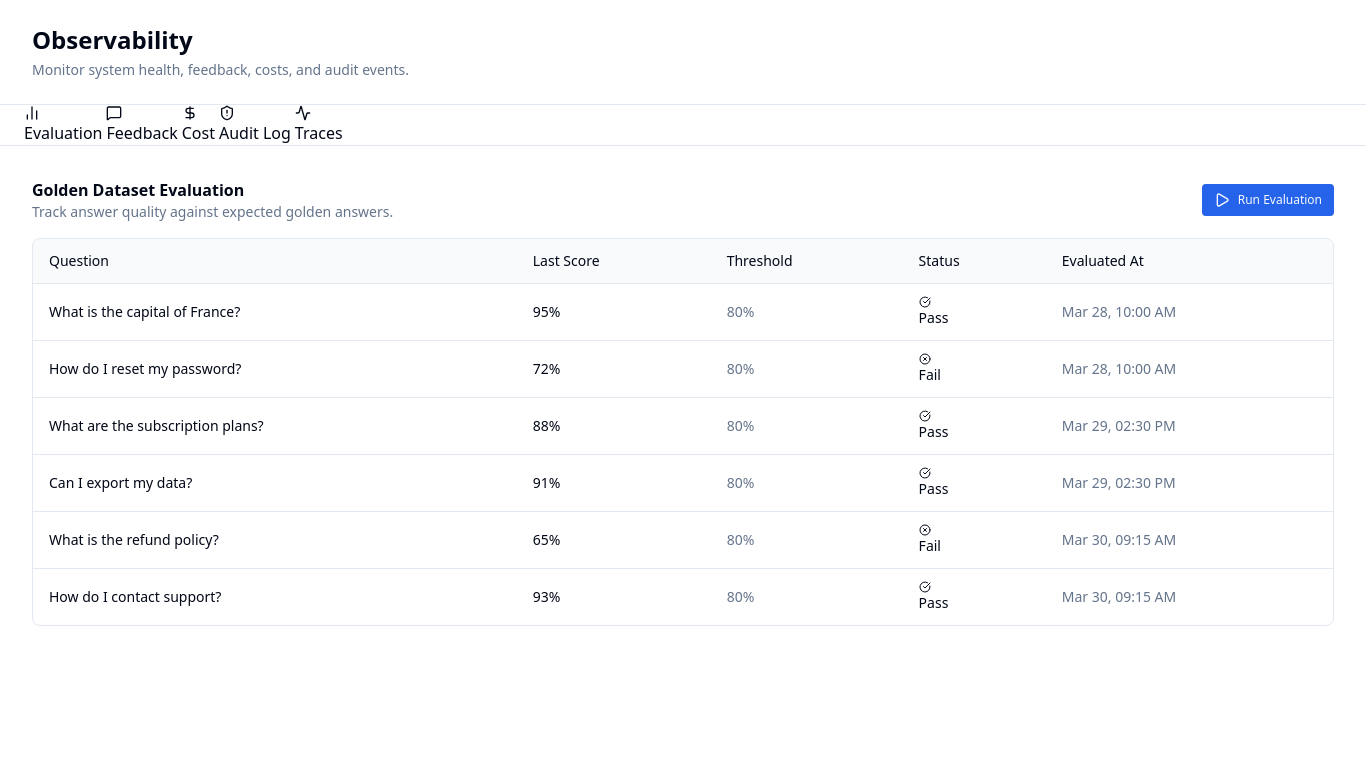
ObservabilityPage — admin visibility › admin can switch to cost tab
Click the button "Cost". click: click(198, 125)
box: [182,105,215,145]
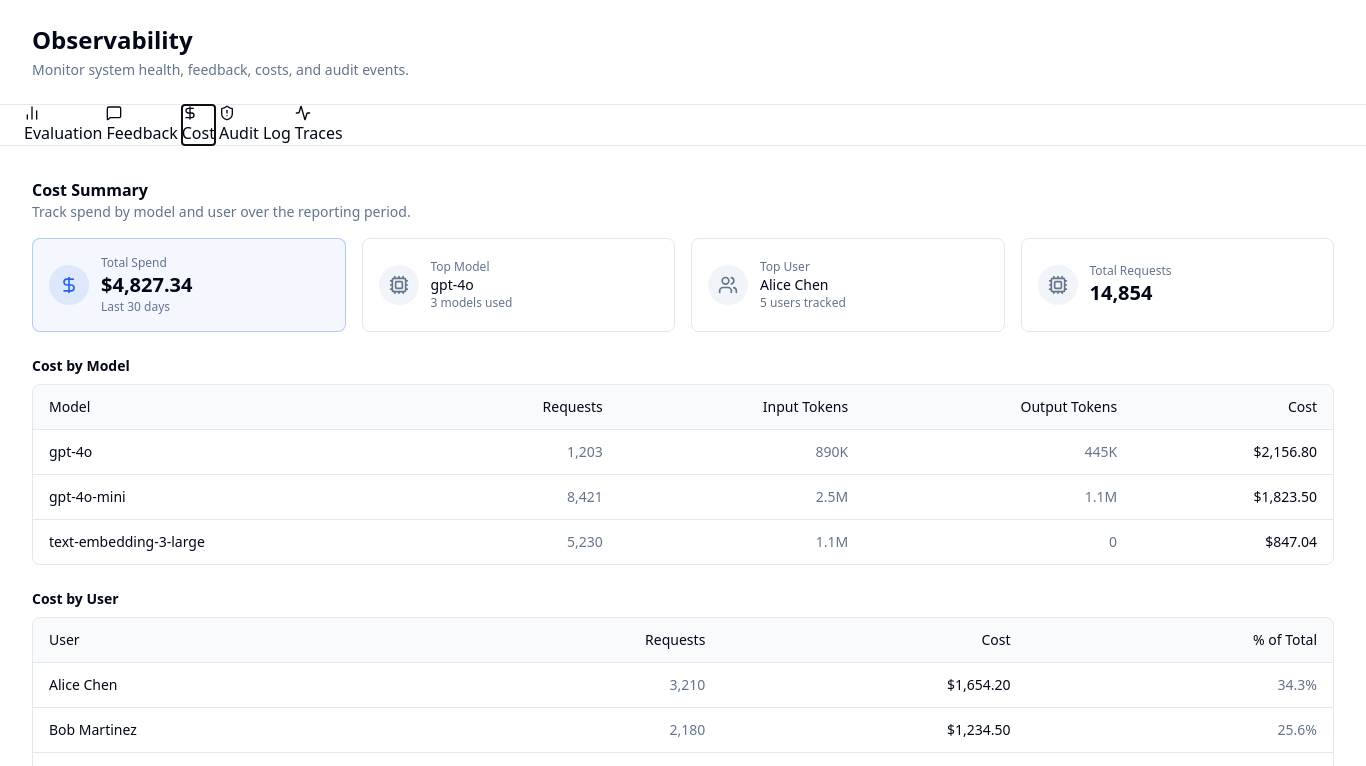
Now the heading "Cost Summary" is shown, box [32,179,148,201]
